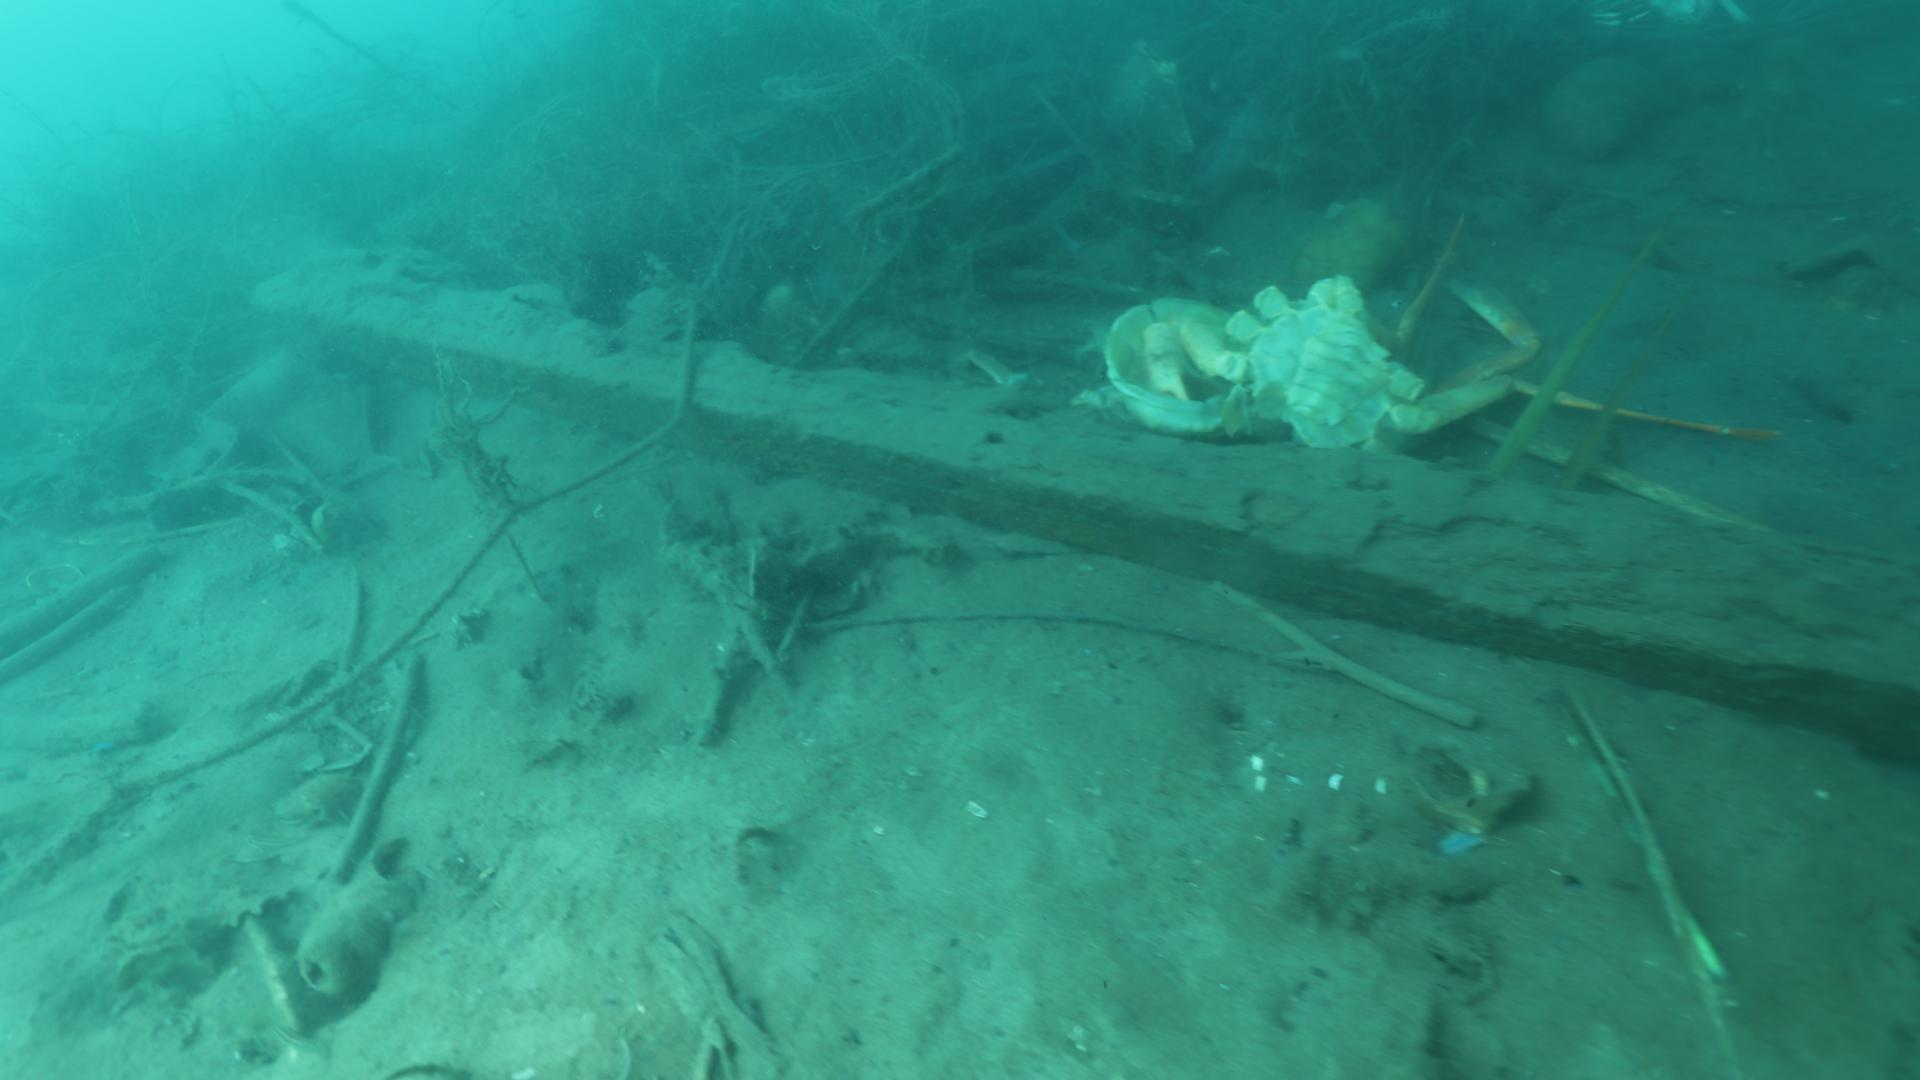wood: (248, 247, 1920, 779)
